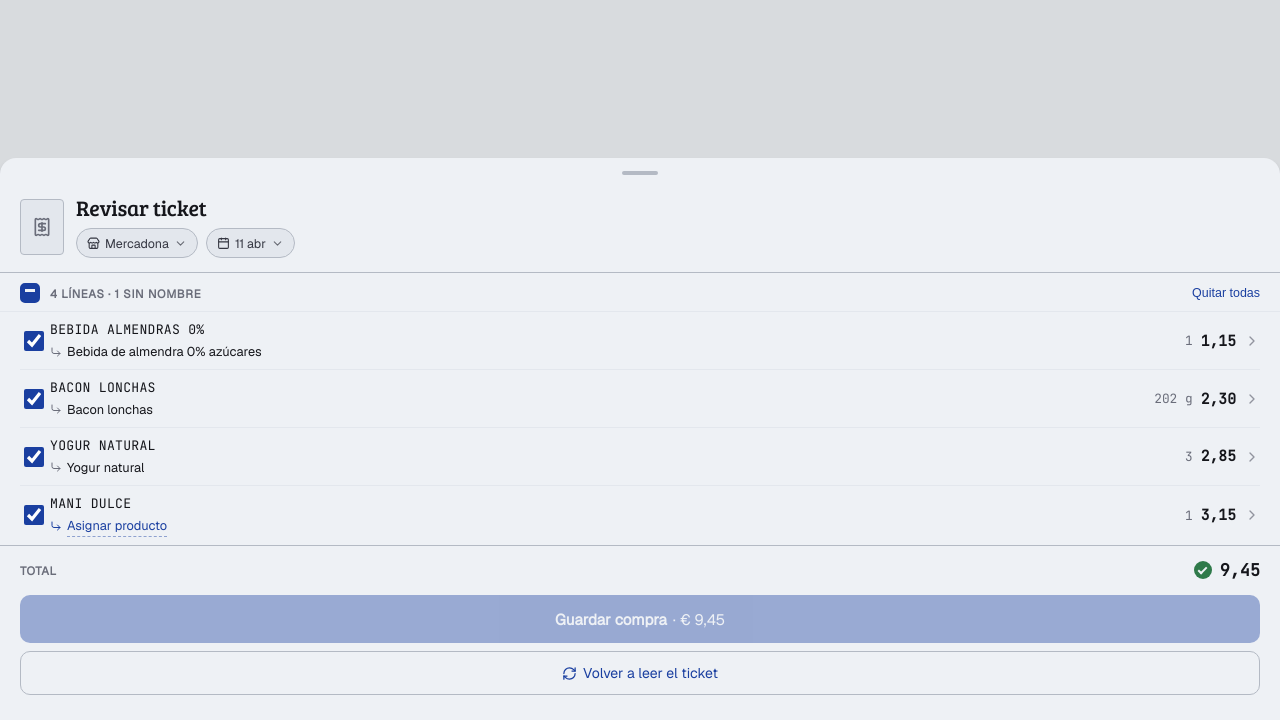
Test case: ReceiptScanSheet — cuadre › keeps the cuadre green from all lines while the button saves only checked
Note: Uncheck the unmatched bag (3.15) — it still counts toward the cuadre.
Click the checkbox named "MANI DULCE": [34, 515] box [24, 505, 44, 525]
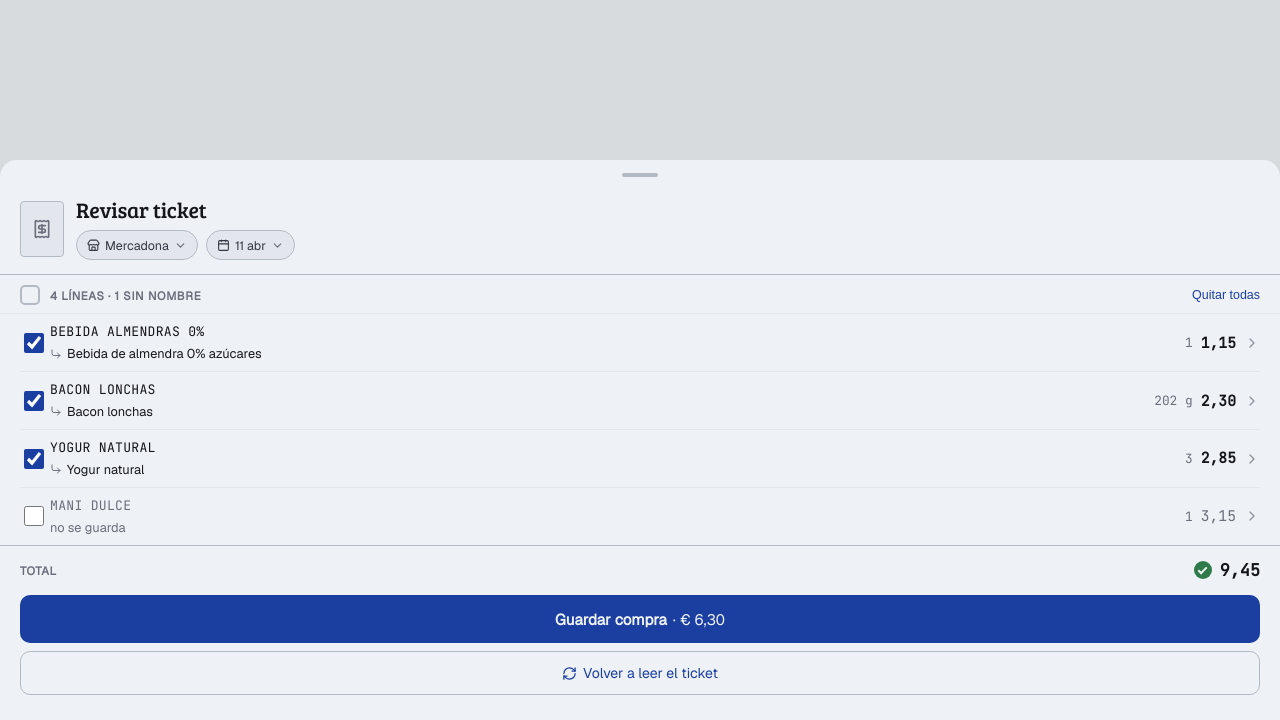
Now the button "Guardar compra · € 6,30" is shown, box [20, 595, 1260, 643]
